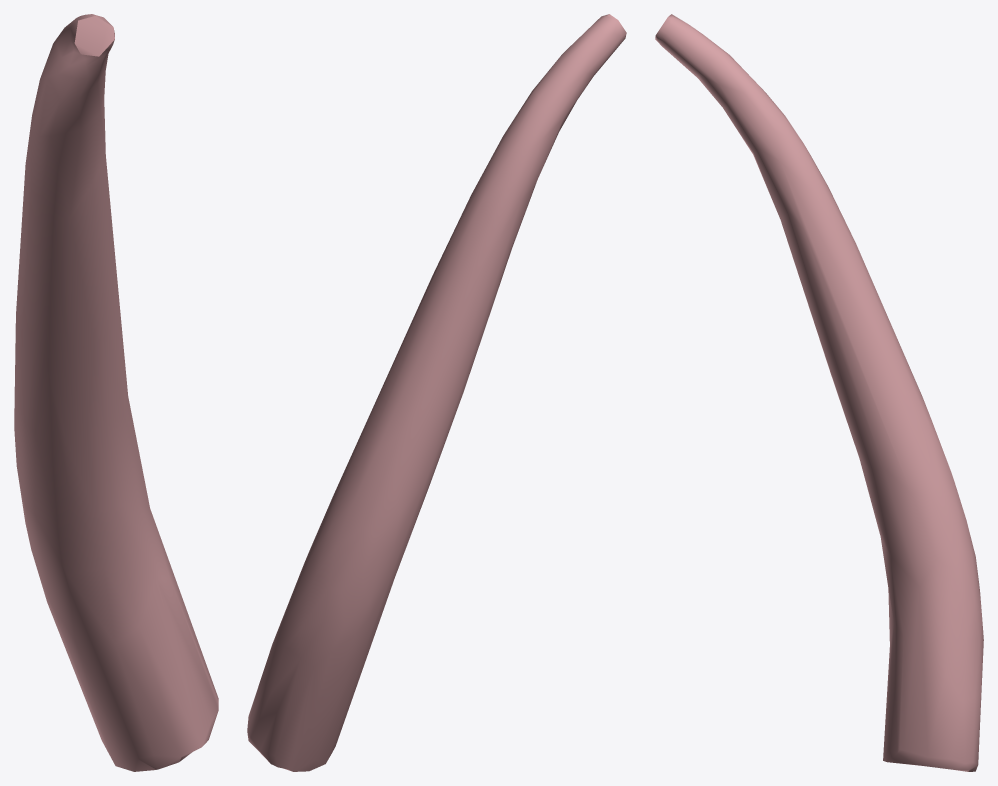
Rendered from fma68211_fj2454.glb.
The picture shows the model from 3 angles, left to right: view 1: azimuth 30°, elevation 25°; view 2: azimuth 150°, elevation 25°; view 3: azimuth 270°, elevation 25°; orthographic projection. The views are drawn at different scales.
Visible parts, largest first — view 1: FMA68211_FJ2454; view 2: FMA68211_FJ2454; view 3: FMA68211_FJ2454.
Part boxes in pixels (box(x1,y1,x2,y2)): FMA68211_FJ2454: box(14, 14, 218, 771); FMA68211_FJ2454: box(247, 14, 626, 771); FMA68211_FJ2454: box(655, 14, 983, 771).
Size of the model in its own units: 0.0205 by 0.0575 by 0.0253.
